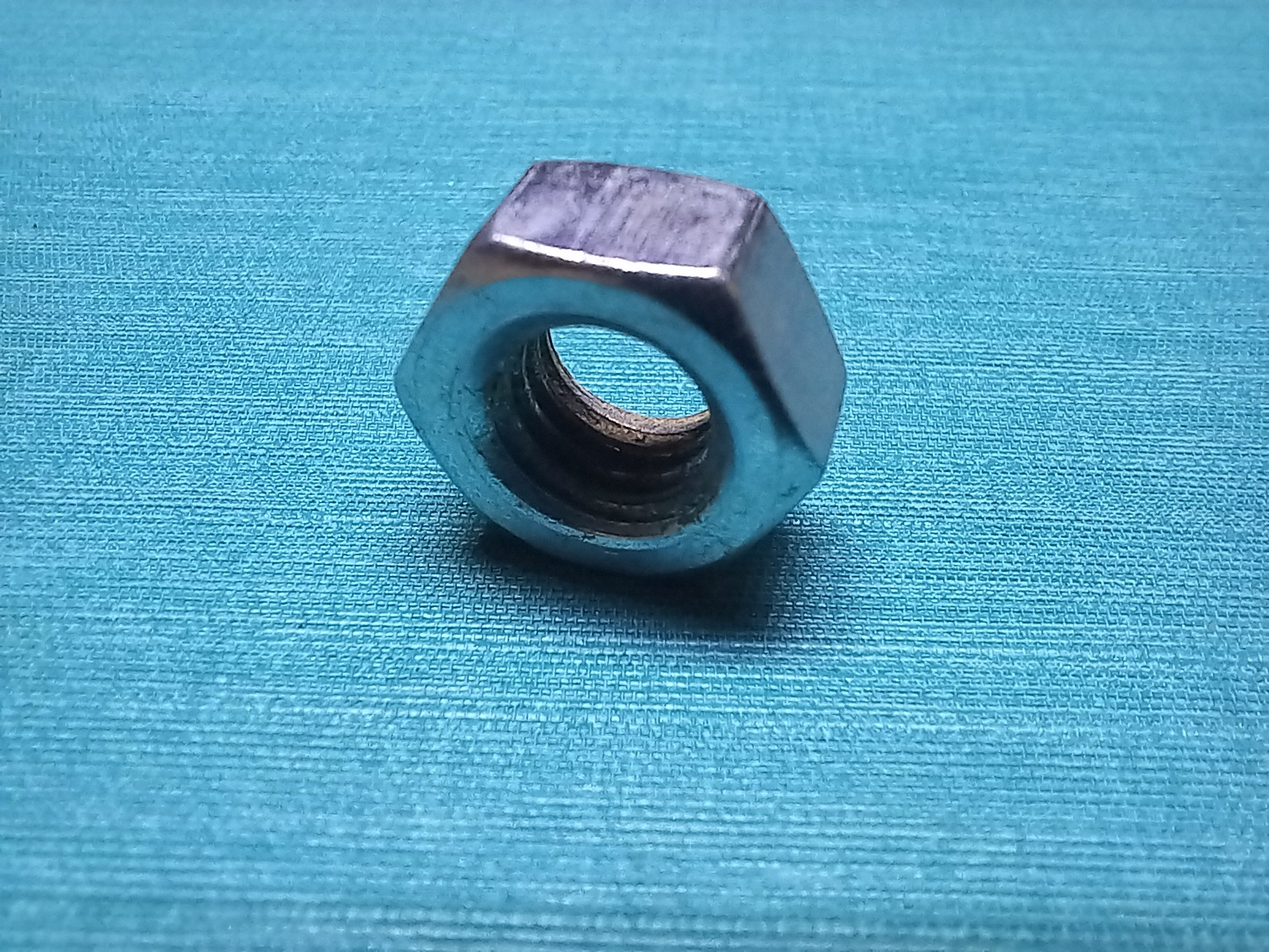nut: (197, 140, 976, 896)
